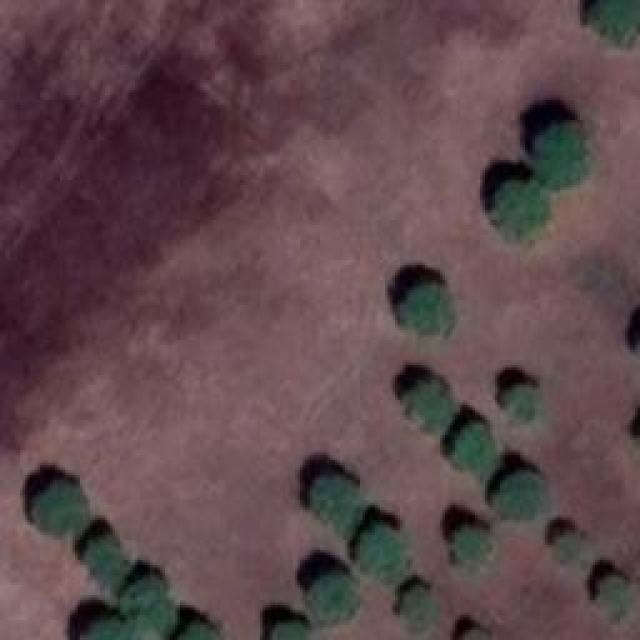Tree: (535, 120, 593, 188), (495, 180, 550, 238), (487, 470, 545, 523), (308, 572, 358, 630), (125, 572, 175, 630), (398, 283, 451, 336), (313, 475, 366, 528), (38, 483, 91, 536), (358, 525, 408, 580), (408, 378, 453, 428), (450, 423, 495, 473), (497, 380, 545, 425), (592, 0, 640, 45), (90, 533, 133, 583), (445, 523, 490, 568), (400, 587, 440, 635), (598, 575, 631, 620), (75, 620, 135, 640), (555, 528, 585, 563), (262, 620, 310, 640), (173, 622, 223, 640)
